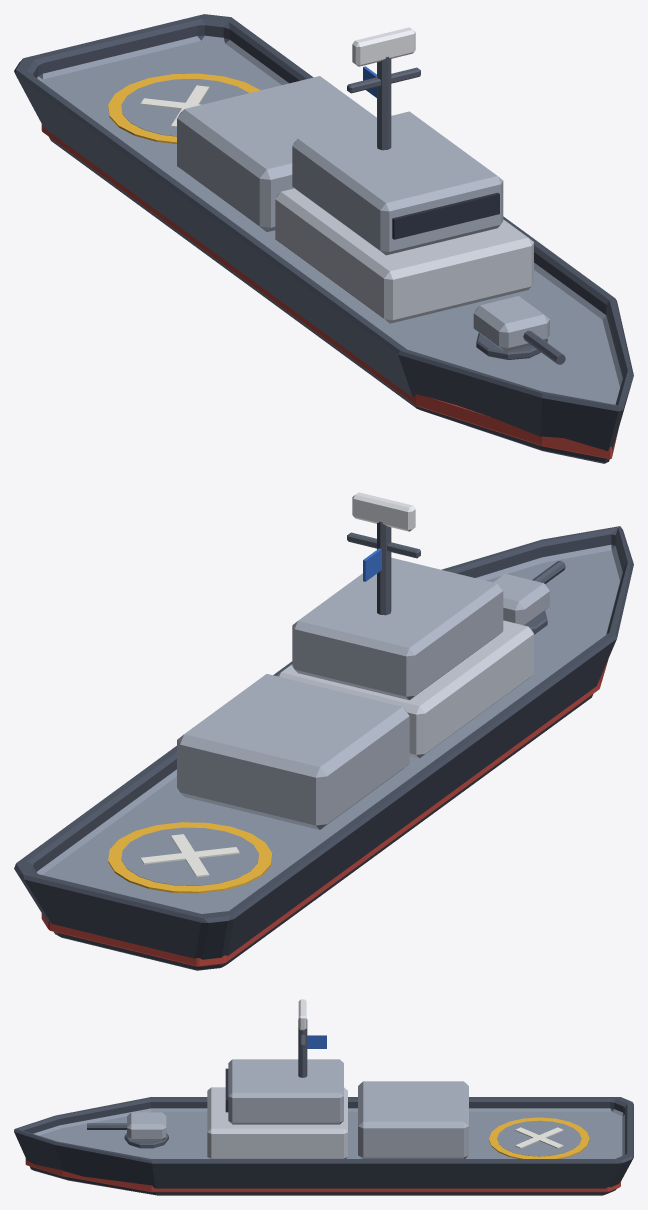
File: fragata.glb
3 renders of one model, top to bottom at view 1: azimuth 30°, elevation 25°; view 2: azimuth 150°, elevation 25°; view 3: azimuth 270°, elevation 25°, orthographic. The views are drawn at different scales.
Parts seen in each view (by area): view 1: fragata; view 2: fragata; view 3: fragata.
Boxes of the visible parts, x1,y1,x2,y2 form: fragata: (14,14,633,463); fragata: (14,492,633,970); fragata: (14,999,633,1195).
Bounding box in the file's own units: 1.53 × 1.79 × 6.16.
